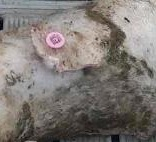text: (38, 25, 72, 56)
